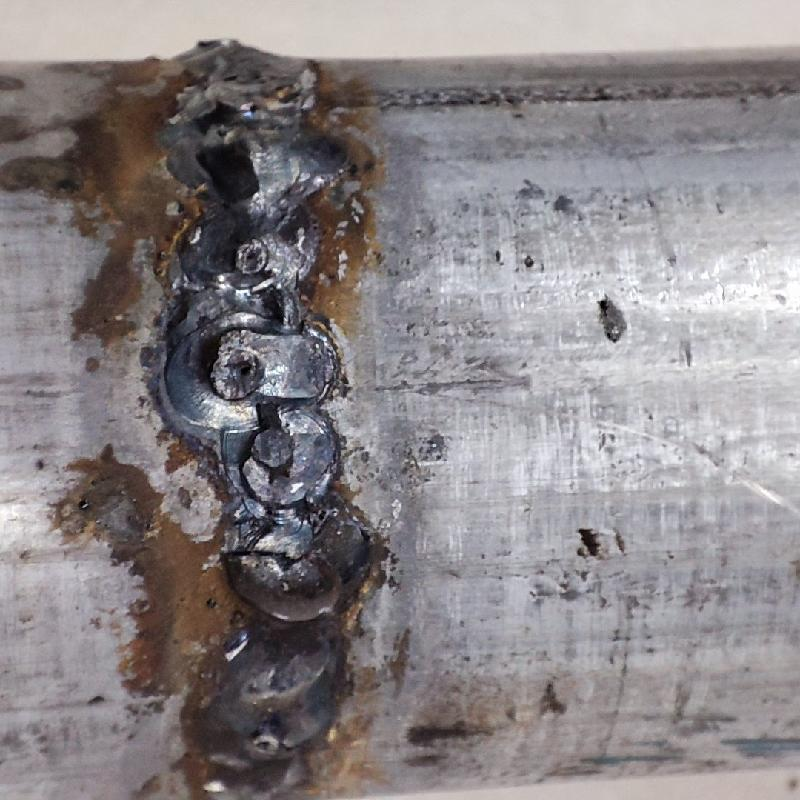Surface_pores: (199, 345, 270, 395), (236, 237, 276, 281), (240, 728, 284, 760)
Weld: (219, 535, 343, 624)
wrong_size: (165, 25, 377, 795)
